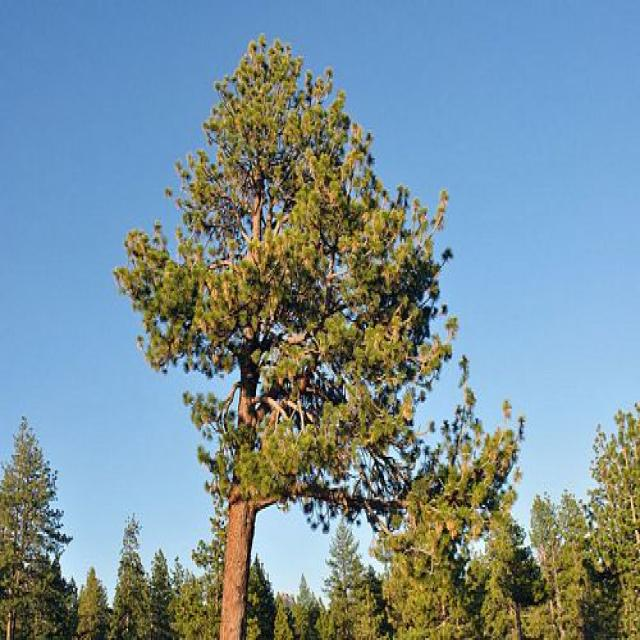Pinus jeffreyi: (110, 28, 535, 640)
